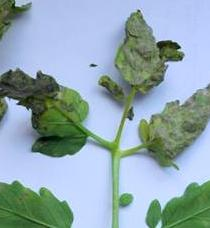Tomato mold leaf: (0, 64, 90, 159), (136, 70, 210, 170), (106, 0, 166, 93), (0, 178, 77, 228), (155, 171, 210, 228)
